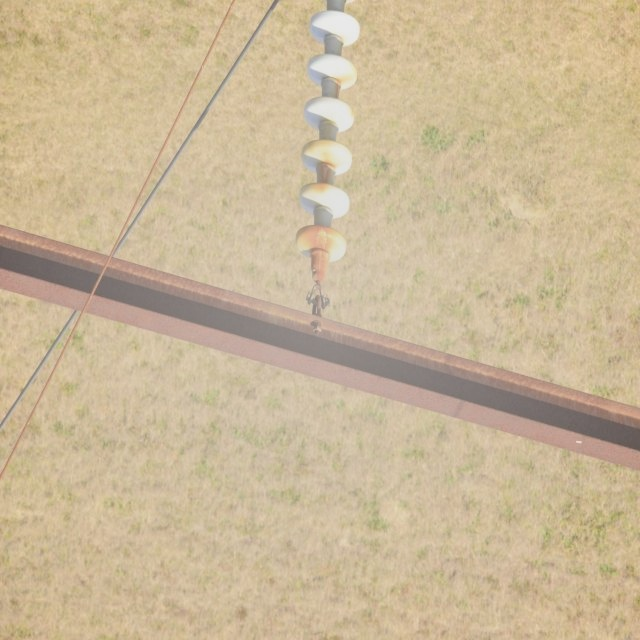insulator: (294, 0, 360, 263)
